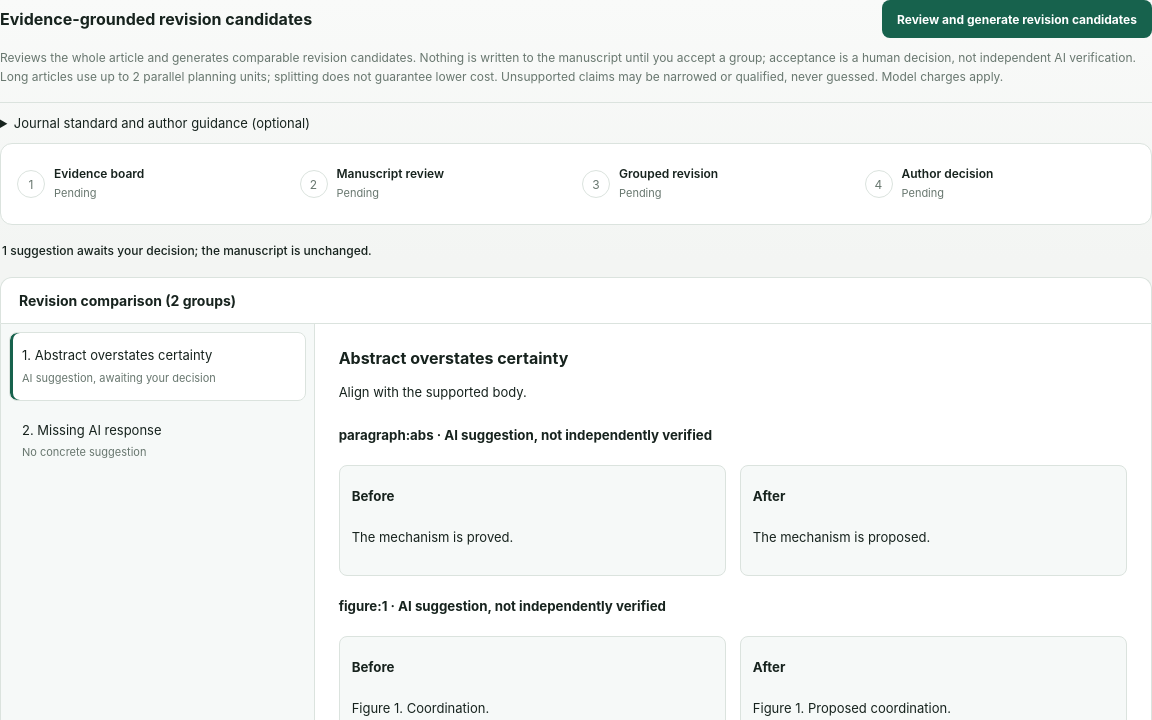
shows each group, but never invents an approval button when there is no concrete candidate
The width and height of the screenshot is (1152, 720).
Click the button "2. Missing AI response No concrete suggestion".
click(99, 430)  # box [9,407,306,475]
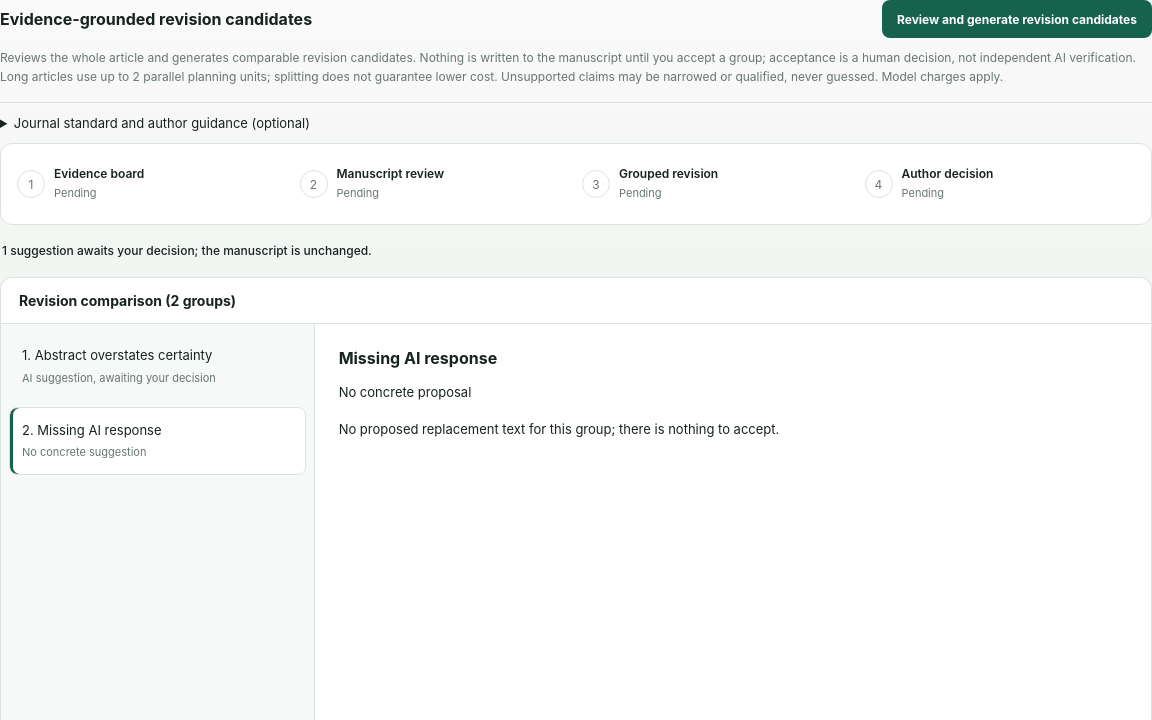
Result: the text "No concrete proposal" is shown at [339,384,471,400]
Result: the text "No proposed replacement text for this group; there is nothing to accept." is shown at [339,421,779,437]
